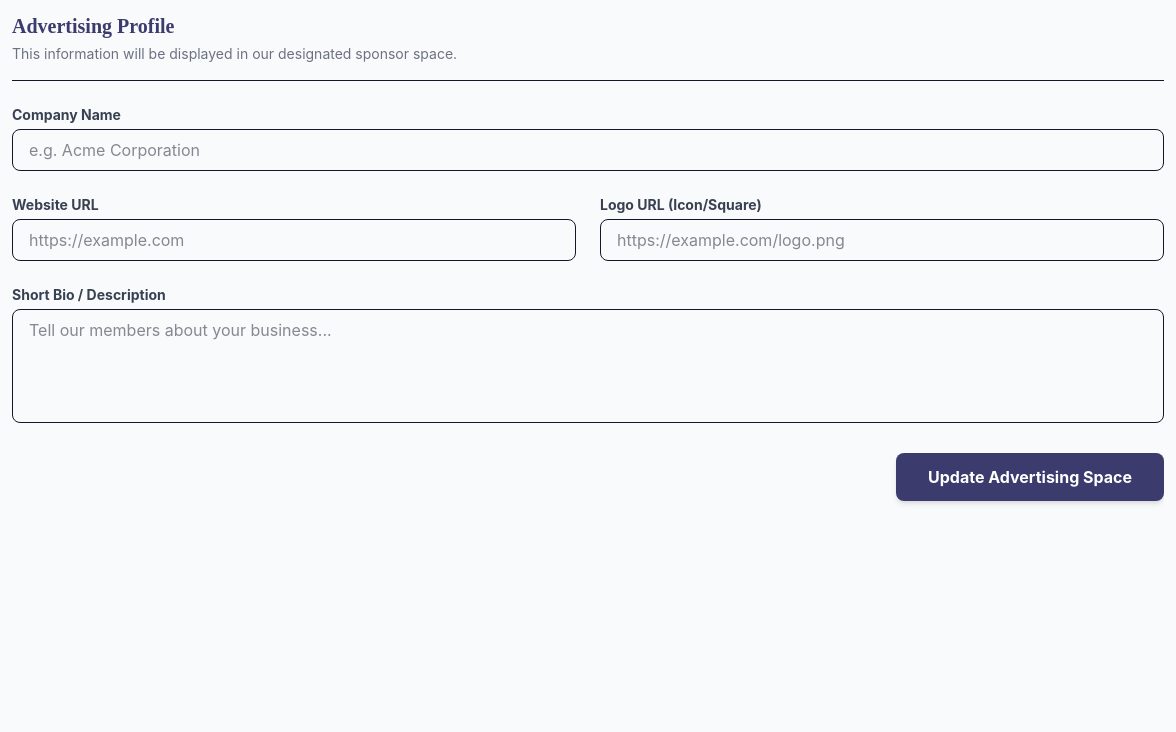
Test: SponsorProfileForm › handles submission error
Type "New Company" into the field with placeholder "e.g. Acme Corporation" at (588, 150), box [12, 129, 1164, 171]
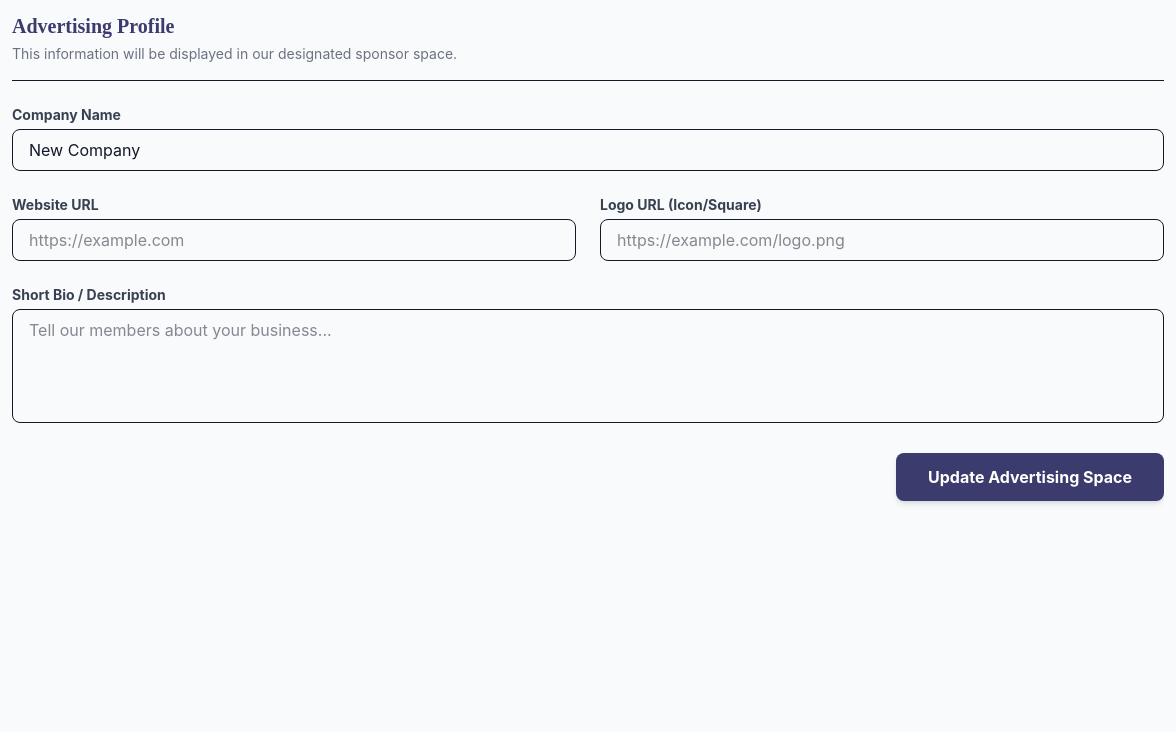
Click the button "Update Advertising Space" at (1030, 477), box [896, 453, 1164, 501]
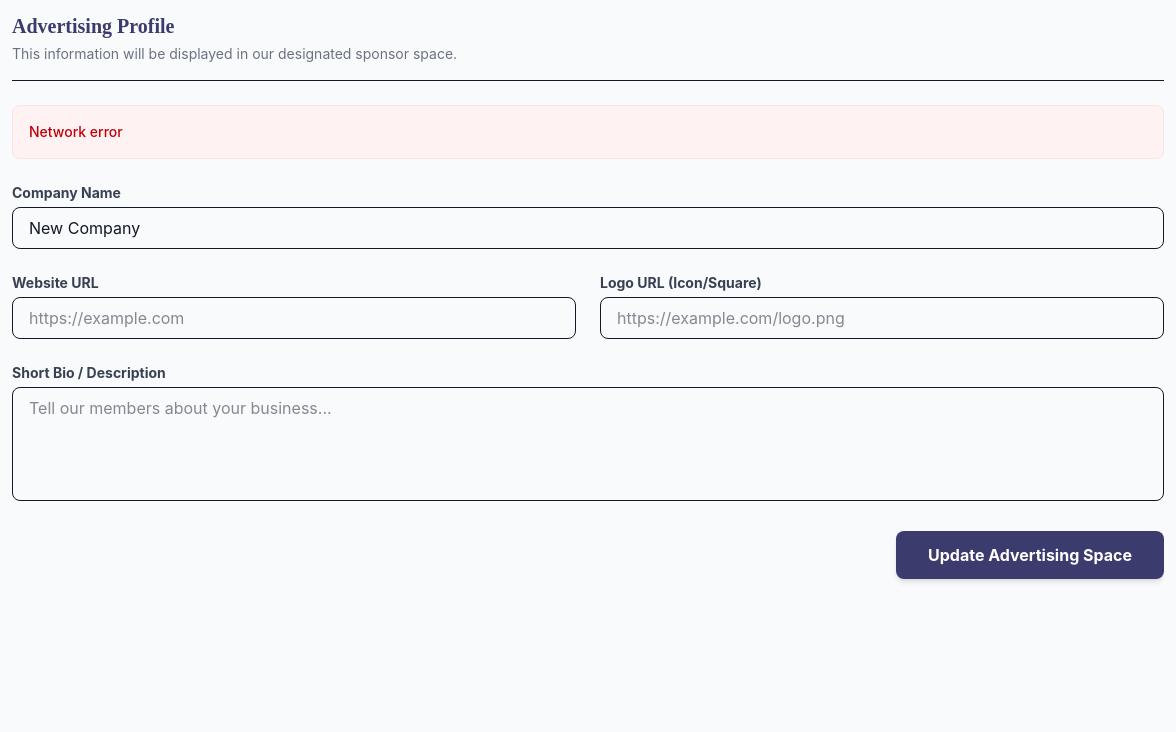
Expected: the text "Network error" is shown, [12, 105, 1164, 159]
